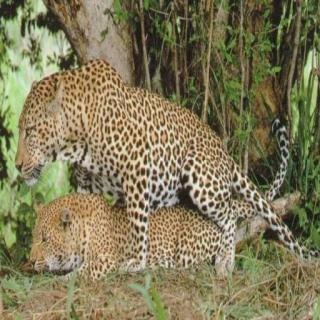Leopard: (10, 54, 309, 219), (26, 180, 311, 294)
